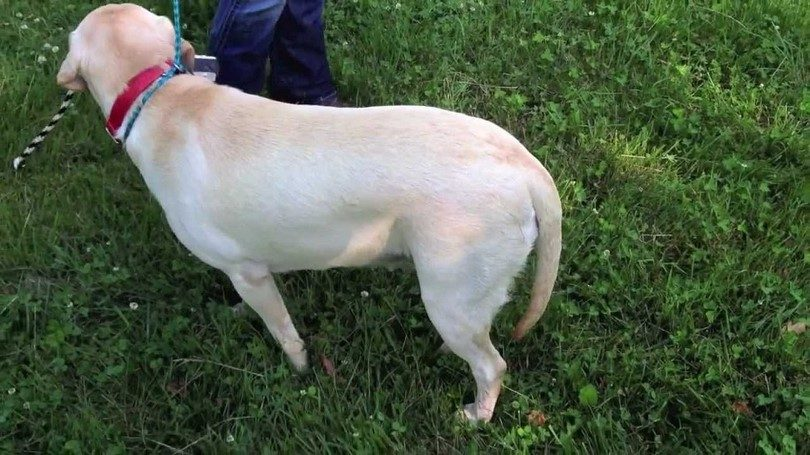tail: (509, 152, 561, 352)
